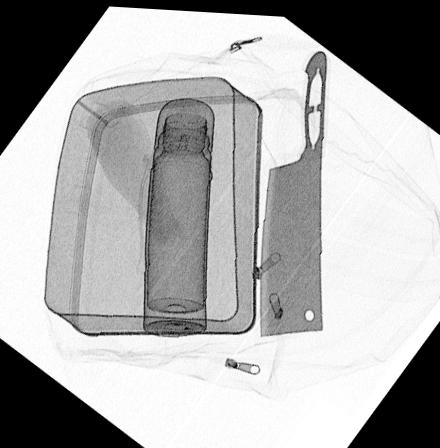Knife: (256, 44, 326, 334)
